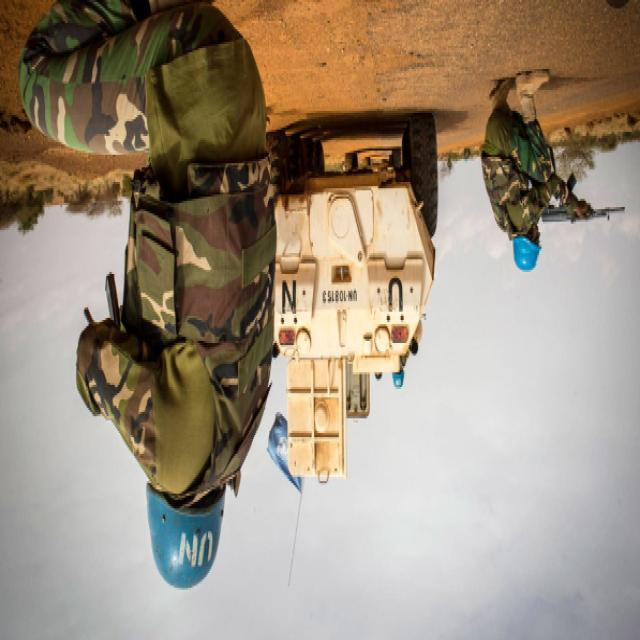helmet: (143, 481, 228, 595), (510, 220, 544, 276)
